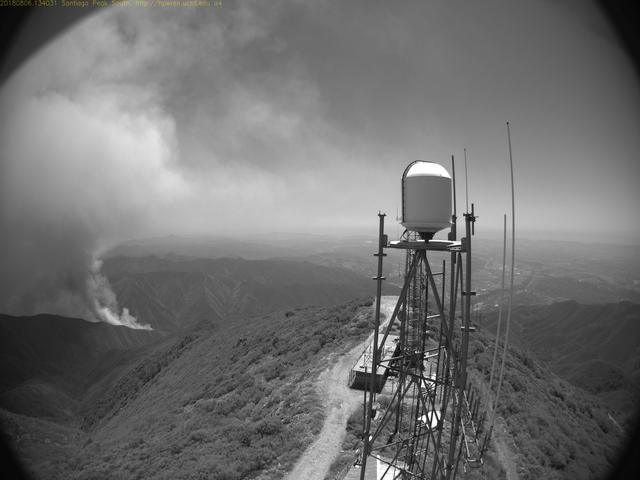smoke: (1, 86, 162, 335)
